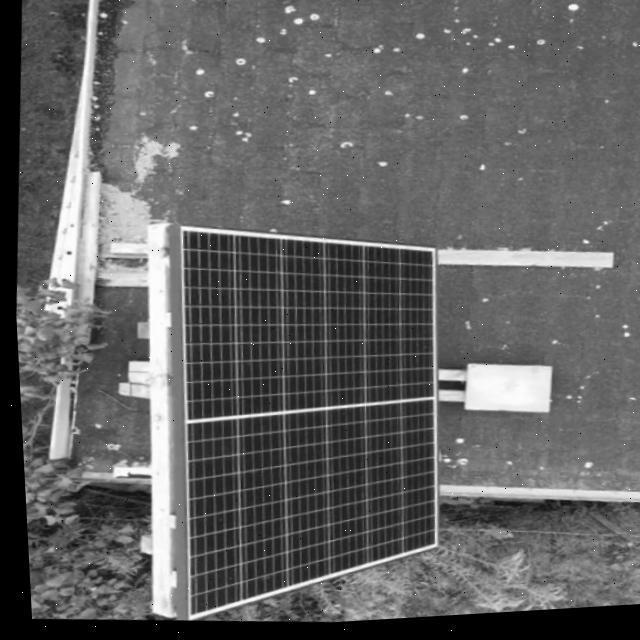Normal Solar Panel: (148, 214, 456, 634)
